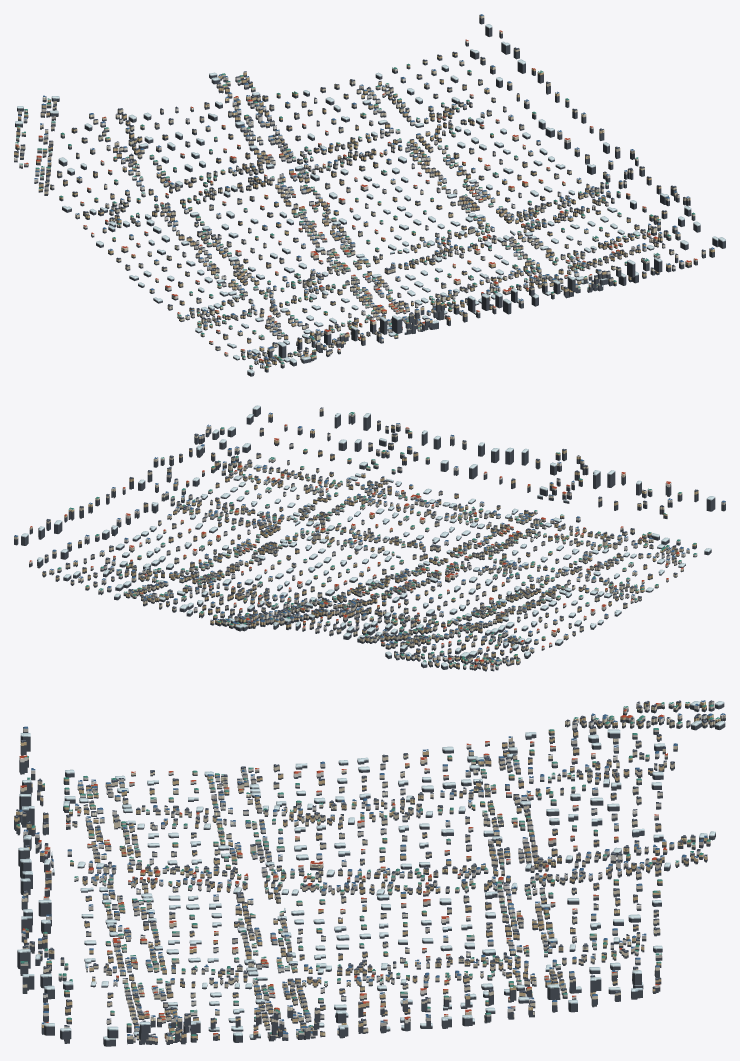
File: osm_buildings_T_E00_N05.glb
3 views of the same model, one above another, from view 1: azimuth 30°, elevation 25°; view 2: azimuth 150°, elevation 25°; view 3: azimuth 270°, elevation 25° (orthographic). The views are drawn at different scales.
Parts seen in each view (by area): view 1: OSM_T_E00_N05_foundation, OSM_T_E00_N05_wall_cream_stucco, OSM_T_E00_N05_wall_french_ochre, OSM_T_E00_N05_greenhouse_blend, OSM_T_E00_N05_roof_mansard_slate, OSM_T_E00_N05_wall_warm_white, OSM_T_E00_N05_wall_pastel_sand, OSM_T_E00_N05_roof_alpine_blue, OSM_T_E00_N05_roof_mint_metal, OSM_T_E00_N05_roof_mansard_deck, OSM_T_E00_N05_roof_terracotta, OSM_T_E00_N05_balcony_railing; view 2: OSM_T_E00_N05_foundation, OSM_T_E00_N05_wall_cream_stucco, OSM_T_E00_N05_wall_french_ochre, OSM_T_E00_N05_greenhouse_blend, OSM_T_E00_N05_roof_mansard_slate, OSM_T_E00_N05_wall_warm_white, OSM_T_E00_N05_wall_pastel_sand, OSM_T_E00_N05_roof_alpine_blue, OSM_T_E00_N05_roof_mint_metal, OSM_T_E00_N05_roof_mansard_deck, OSM_T_E00_N05_roof_terracotta; view 3: OSM_T_E00_N05_foundation, OSM_T_E00_N05_greenhouse_blend, OSM_T_E00_N05_wall_cream_stucco, OSM_T_E00_N05_wall_french_ochre, OSM_T_E00_N05_roof_mansard_slate, OSM_T_E00_N05_wall_warm_white, OSM_T_E00_N05_wall_pastel_sand, OSM_T_E00_N05_roof_alpine_blue, OSM_T_E00_N05_roof_mint_metal, OSM_T_E00_N05_roof_mansard_deck, OSM_T_E00_N05_roof_terracotta.
Part boxes in pixels (box(x1,y1,x2,y2)): OSM_T_E00_N05_foundation: box(14, 17, 725, 376); OSM_T_E00_N05_wall_cream_stucco: box(20, 15, 705, 366); OSM_T_E00_N05_wall_french_ochre: box(14, 53, 714, 369); OSM_T_E00_N05_greenhouse_blend: box(15, 24, 725, 373); OSM_T_E00_N05_roof_mansard_slate: box(14, 48, 705, 361); OSM_T_E00_N05_wall_warm_white: box(14, 40, 684, 368); OSM_T_E00_N05_wall_pastel_sand: box(16, 67, 697, 360); OSM_T_E00_N05_roof_alpine_blue: box(18, 14, 714, 364); OSM_T_E00_N05_roof_mint_metal: box(15, 63, 694, 367); OSM_T_E00_N05_roof_mansard_deck: box(14, 47, 704, 360); OSM_T_E00_N05_roof_terracotta: box(16, 30, 697, 360); OSM_T_E00_N05_balcony_railing: box(59, 49, 705, 356); OSM_T_E00_N05_foundation: box(14, 407, 725, 671); OSM_T_E00_N05_wall_cream_stucco: box(14, 408, 683, 667); OSM_T_E00_N05_wall_french_ochre: box(42, 414, 698, 669); OSM_T_E00_N05_greenhouse_blend: box(21, 405, 715, 666); OSM_T_E00_N05_roof_mansard_slate: box(42, 407, 698, 666); OSM_T_E00_N05_wall_warm_white: box(29, 424, 697, 669); OSM_T_E00_N05_wall_pastel_sand: box(83, 413, 725, 668); OSM_T_E00_N05_roof_alpine_blue: box(14, 412, 725, 662); OSM_T_E00_N05_roof_mint_metal: box(57, 412, 696, 666); OSM_T_E00_N05_roof_mansard_deck: box(43, 420, 697, 665); OSM_T_E00_N05_roof_terracotta: box(29, 424, 683, 666); OSM_T_E00_N05_foundation: box(14, 703, 725, 1046); OSM_T_E00_N05_greenhouse_blend: box(17, 701, 725, 1040); OSM_T_E00_N05_wall_cream_stucco: box(19, 705, 715, 1041); OSM_T_E00_N05_wall_french_ochre: box(14, 701, 720, 1040); OSM_T_E00_N05_roof_mansard_slate: box(14, 700, 714, 1038); OSM_T_E00_N05_wall_warm_white: box(19, 702, 706, 1040); OSM_T_E00_N05_wall_pastel_sand: box(20, 701, 725, 1041); OSM_T_E00_N05_roof_alpine_blue: box(18, 700, 725, 1037); OSM_T_E00_N05_roof_mint_metal: box(16, 702, 720, 1038); OSM_T_E00_N05_roof_mansard_deck: box(14, 700, 713, 1036); OSM_T_E00_N05_roof_terracotta: box(19, 703, 667, 1038).
Size of the model in its own units: 1932 by 291 by 1960.
